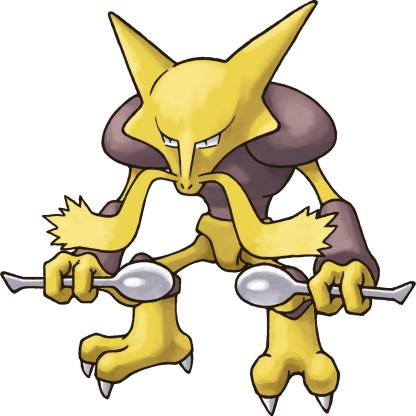Alakazam: (26, 14, 409, 416)
